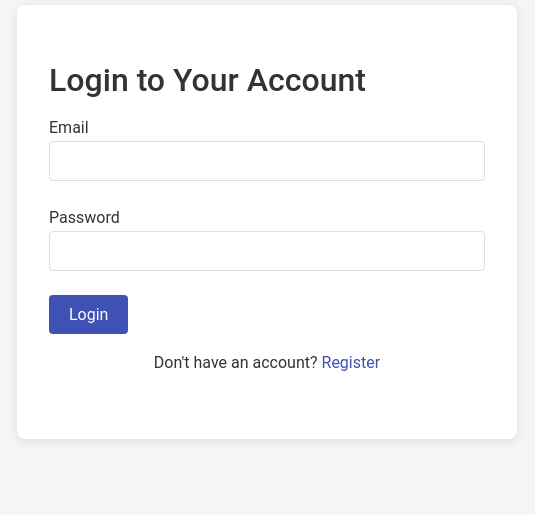
it: Login Component › validates required fields
# Submit without filling fields
Click the button "Login" at (89, 314), box 49,295 -> 128,334
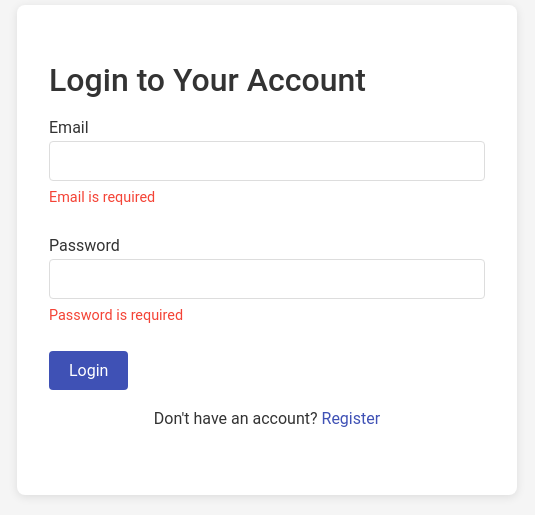
Result: the text "Email is required" is shown at 49,189 -> 155,206
Result: the text "Password is required" is shown at 49,307 -> 183,324
